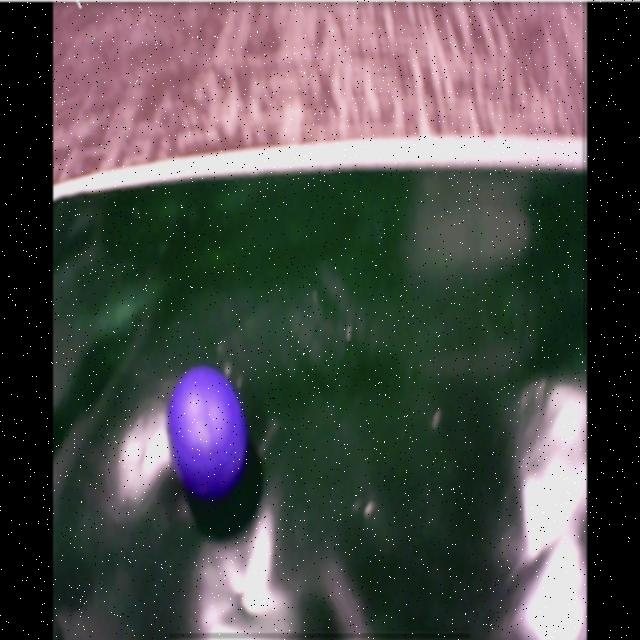ball: (168, 369, 249, 495)
